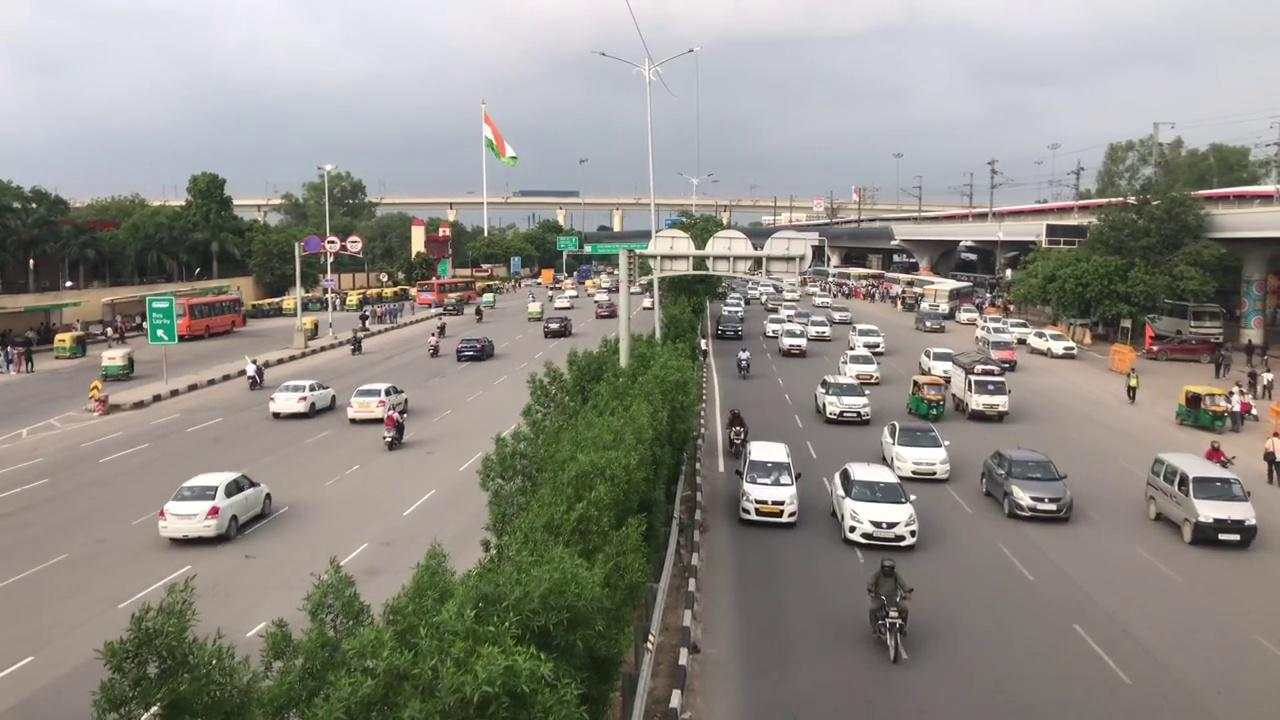Auto: (1174, 382, 1233, 434), (907, 375, 947, 421), (98, 347, 137, 382), (52, 329, 88, 360)
Bike: (866, 554, 914, 668), (380, 403, 408, 451), (725, 406, 750, 459), (735, 345, 752, 381)
Car: (160, 467, 274, 545), (832, 456, 919, 548), (982, 445, 1074, 520), (737, 437, 801, 526), (880, 416, 951, 482), (816, 372, 871, 426), (268, 376, 340, 417), (837, 348, 881, 385), (455, 336, 496, 361), (714, 312, 744, 341)
Truck: (948, 351, 1012, 420)
